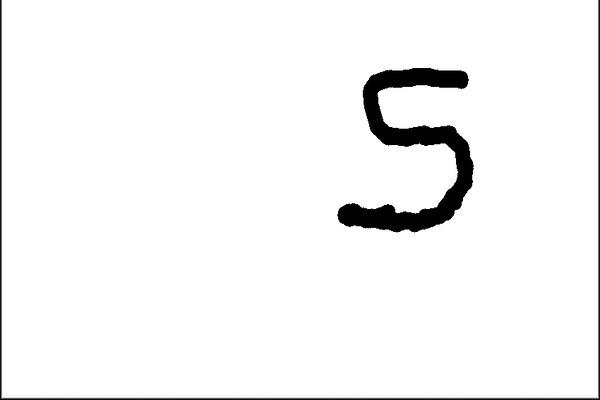S: (326, 57, 477, 239)
